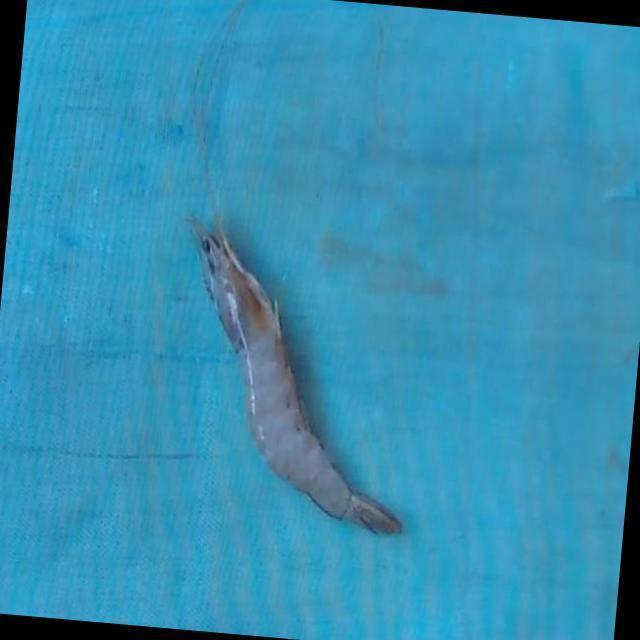shrimp: (192, 223, 401, 533)
